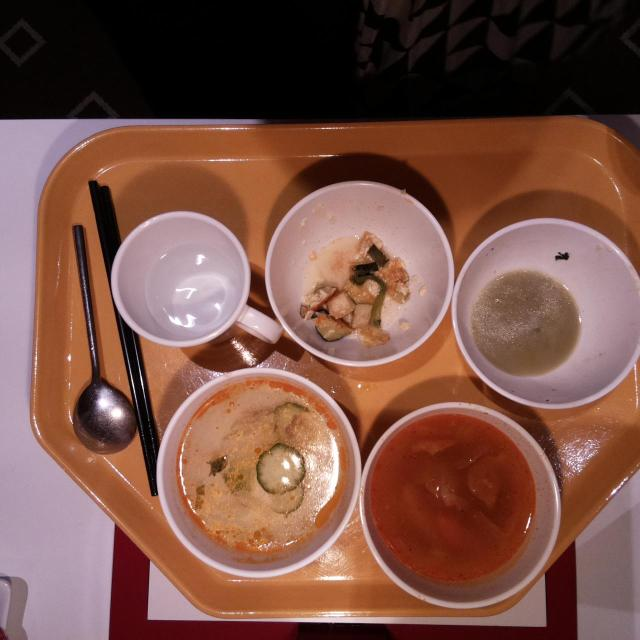Vegetable: (254, 442, 308, 496)
